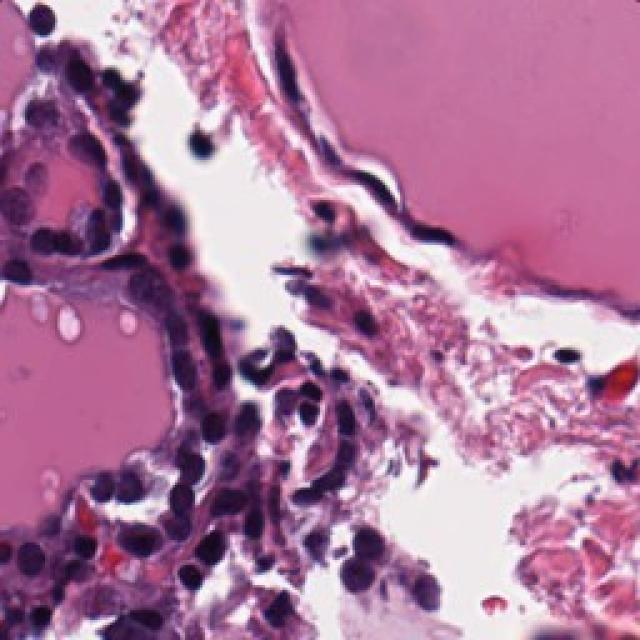normal: (333, 539, 403, 604), (152, 224, 216, 292), (102, 459, 162, 521), (180, 381, 233, 450), (197, 477, 253, 537), (0, 523, 51, 585), (78, 116, 128, 178), (14, 0, 79, 44), (164, 551, 218, 601), (114, 519, 162, 574), (20, 220, 71, 271), (187, 297, 231, 341)
